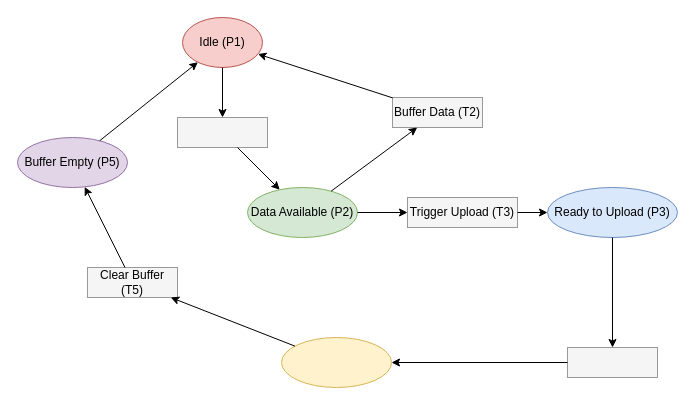
Image size: 695x405. Some labels were removed from this diagram. The shapes that lost their labels are listed below. From the top down, each one's box as (x1, y1, x2, y2) in pixels, then its label:
(176, 116, 268, 148): Poll Inverter (T1)
(280, 336, 392, 388): Uploading (P4)
(566, 346, 658, 378): Upload Data (T4)
